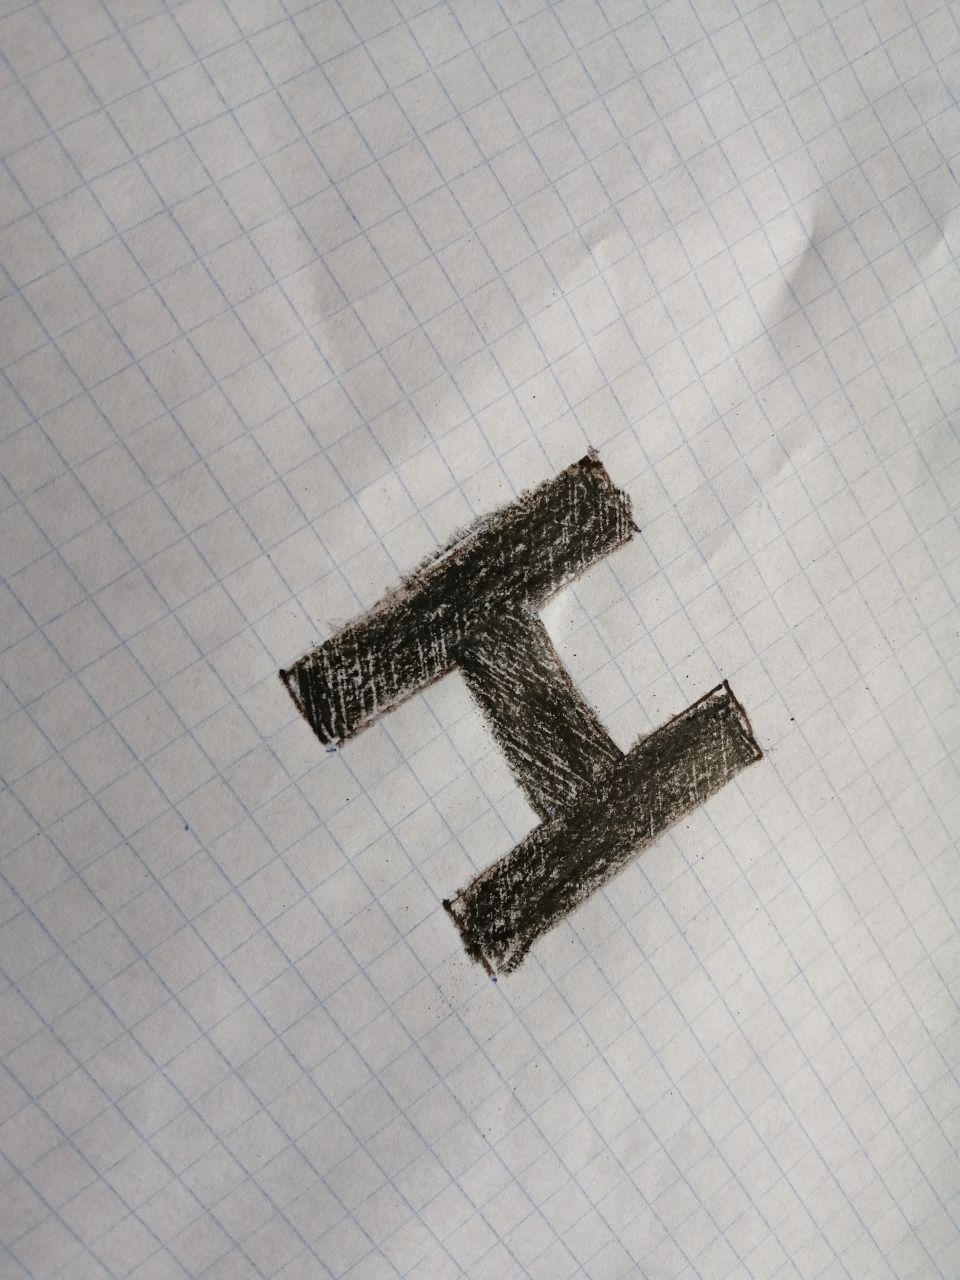h: (268, 433, 778, 992)
